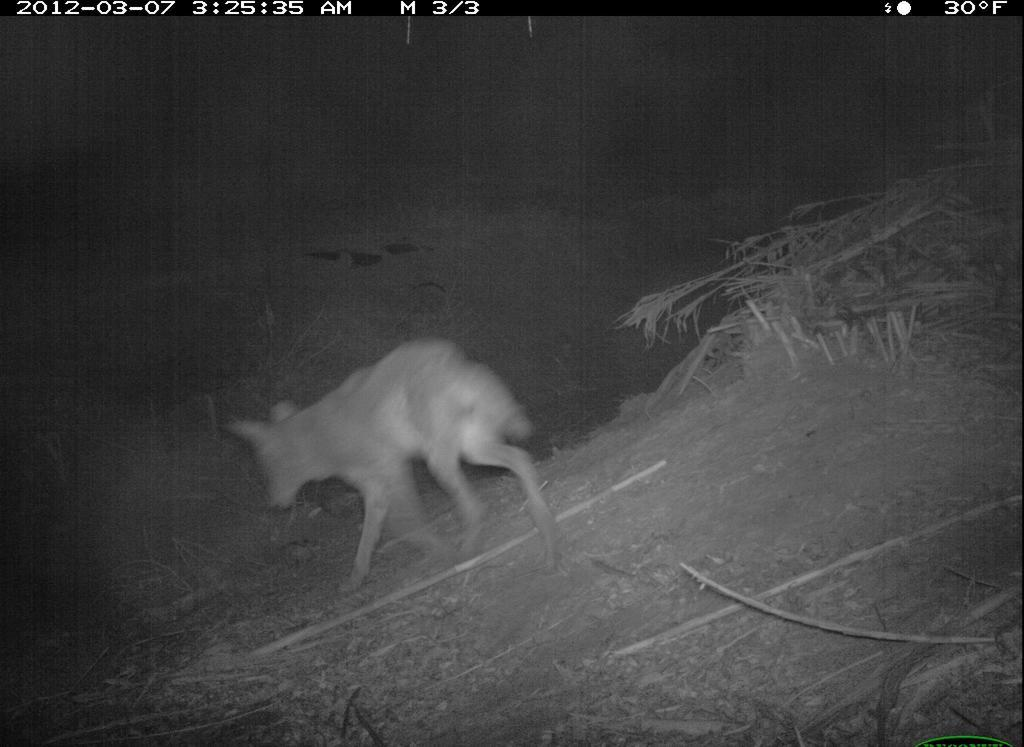coyote: (216, 335, 585, 589)
